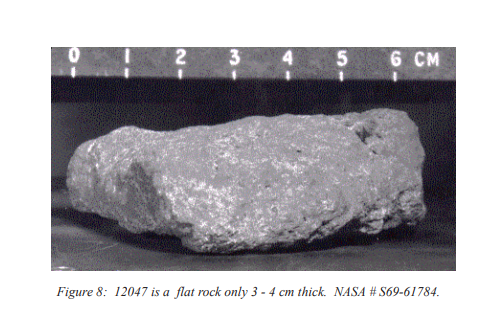Basalt: (57, 102, 444, 250)
